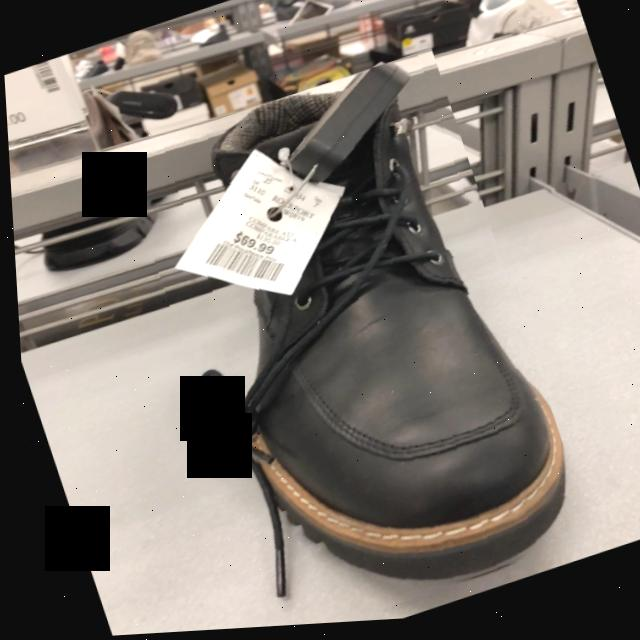shoe: (173, 66, 561, 602)
